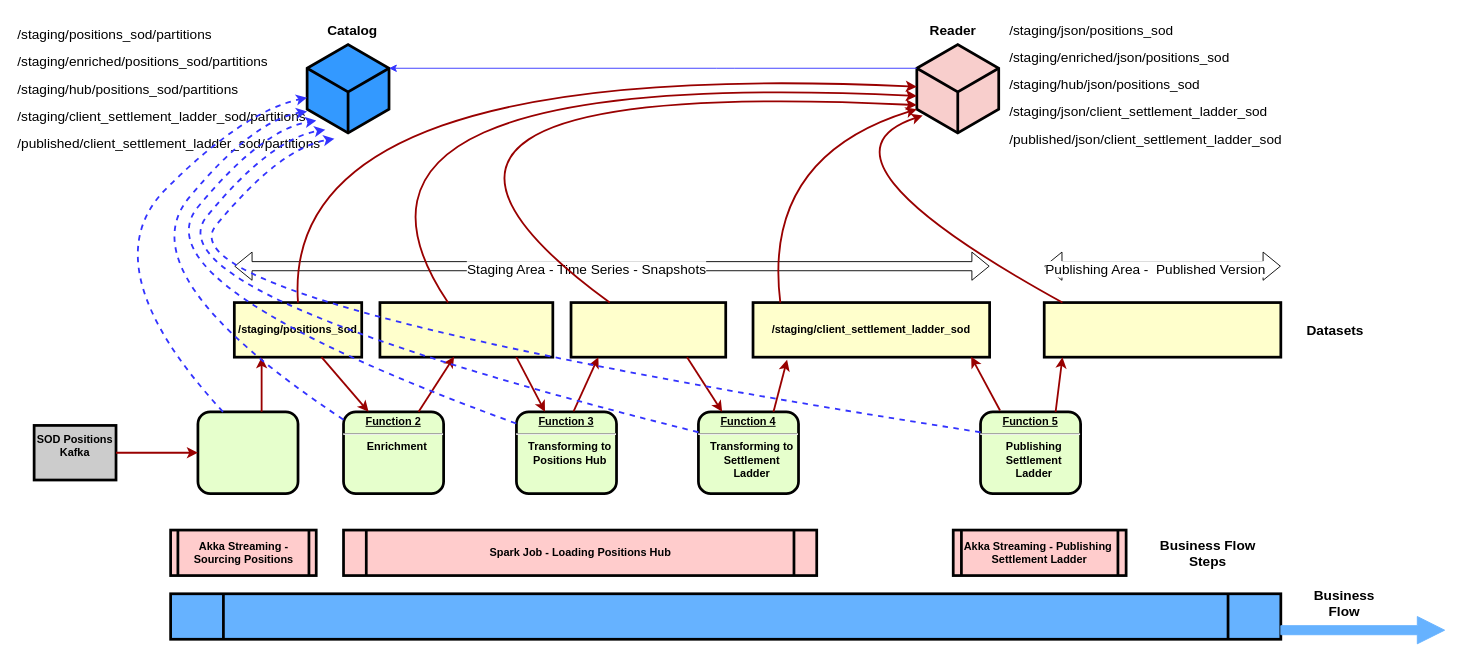
Some shapes in this 1476 by 662 pixel diagram are drawn without their labels. The centre of each missing label's shape, as x and y in pixels:
"/published/client_settlement_ladder_sod" goes at point (1162, 329).
"/staging/enriched/positions_sod" goes at point (466, 329).
"/staging/hub/positions_sod" goes at point (648, 329).
"Function 1 Staging data into Parquet files" goes at point (247, 452).
"Rehypothecation Dayly Run - Start of the Day - Business Flow" goes at point (725, 616).
